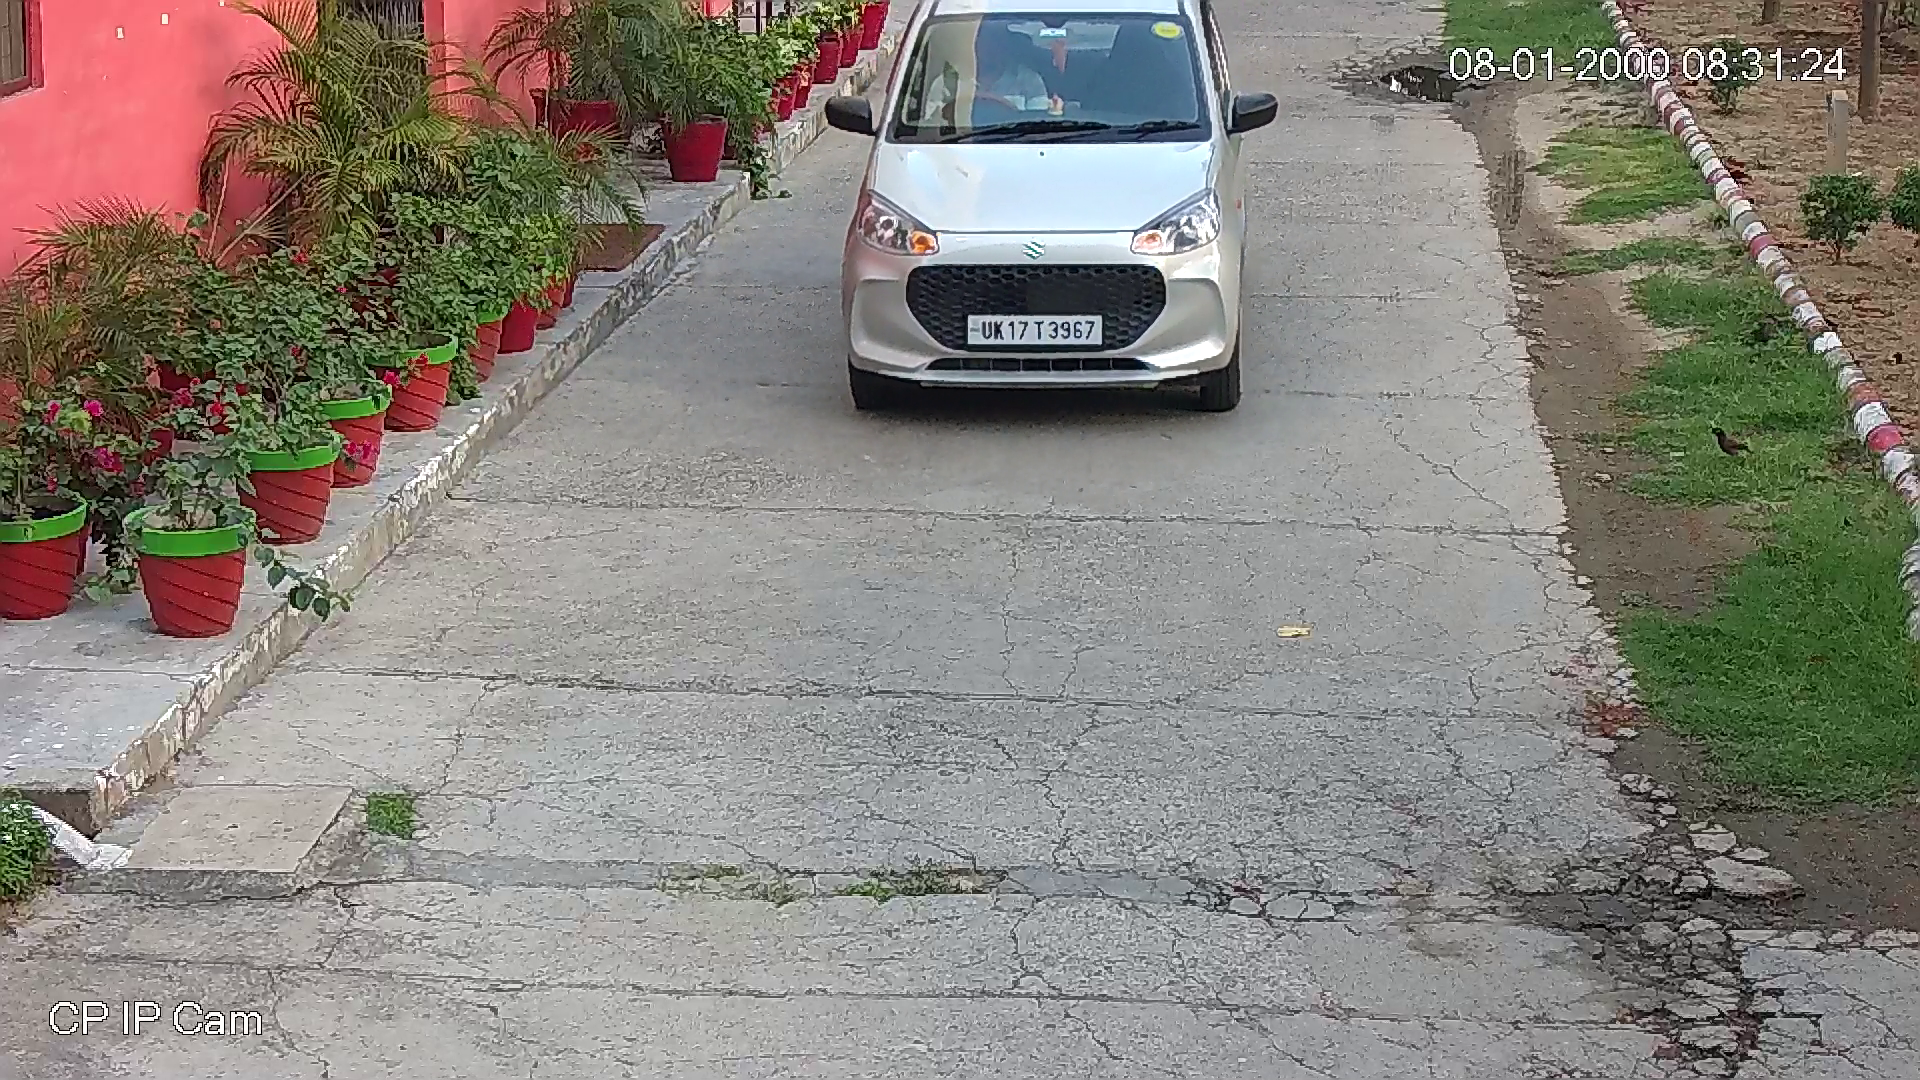plate: (962, 311, 1111, 352)
